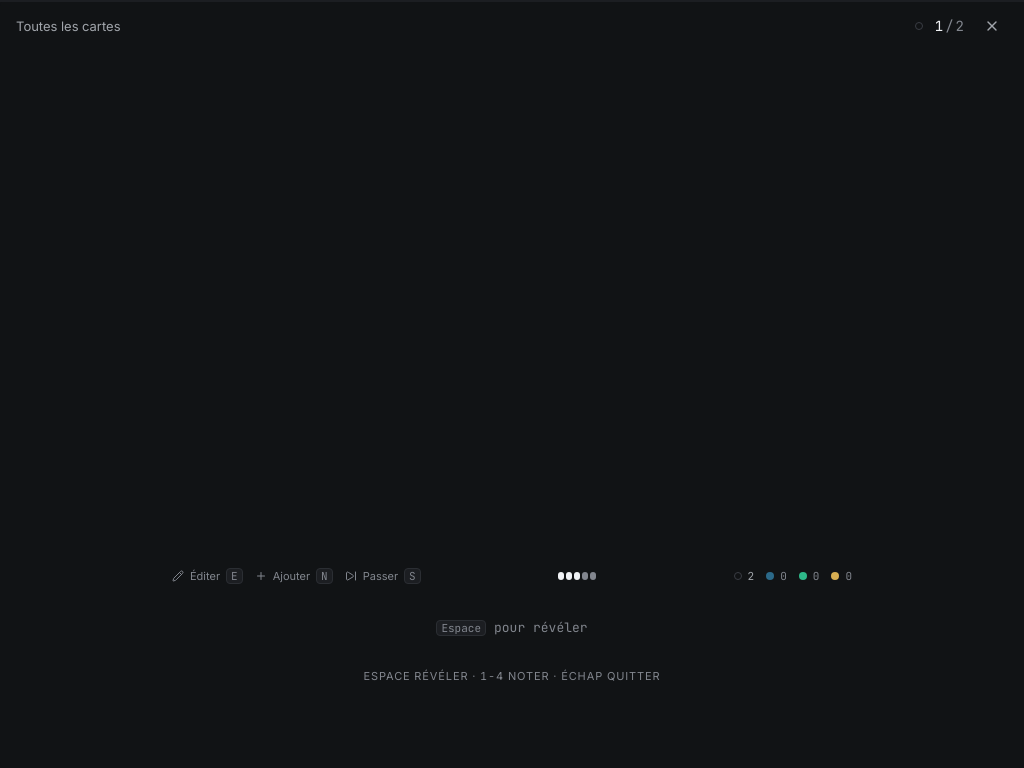
Test: <ReviewSession> — the quick add is reachable from the screen itself › opens with the button in the session strip — the shortcut is not the only door
Expected: the button with aria-label "Passer cette carte sans la noter (S)" is shown, [345, 568, 421, 585]
Click the button with aria-label "Ajouter une carte sans quitter la session (N)".
click(294, 576)  # box [255, 568, 333, 585]
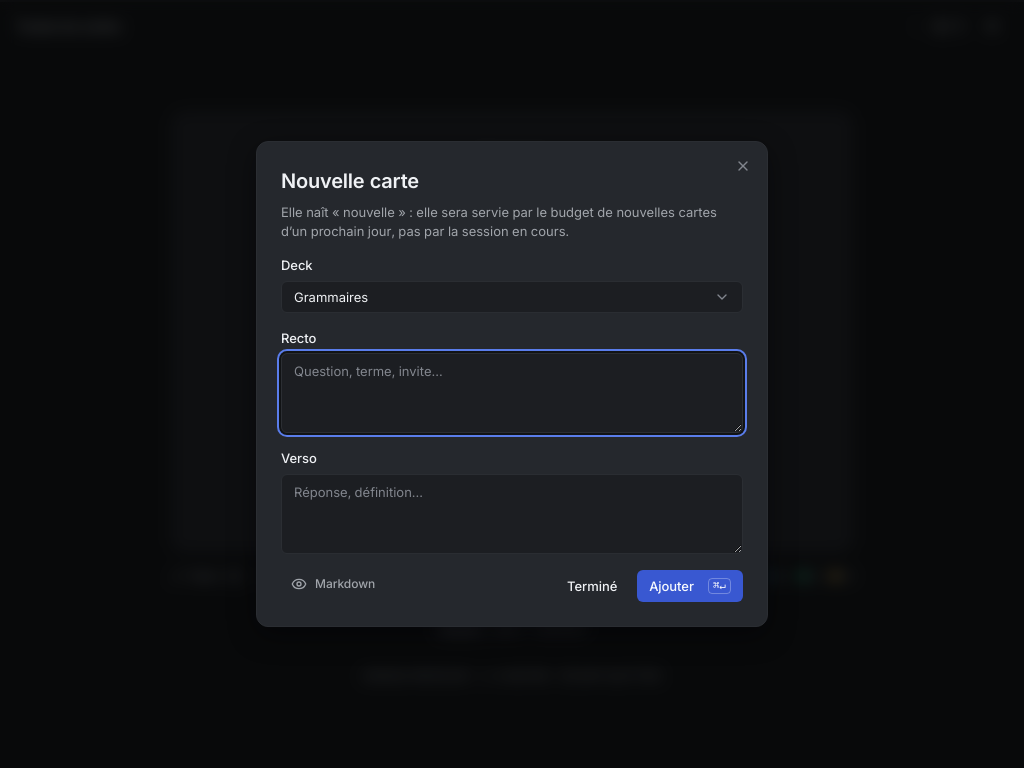
Expected: the heading "Nouvelle carte" is shown, [281, 169, 419, 193]
